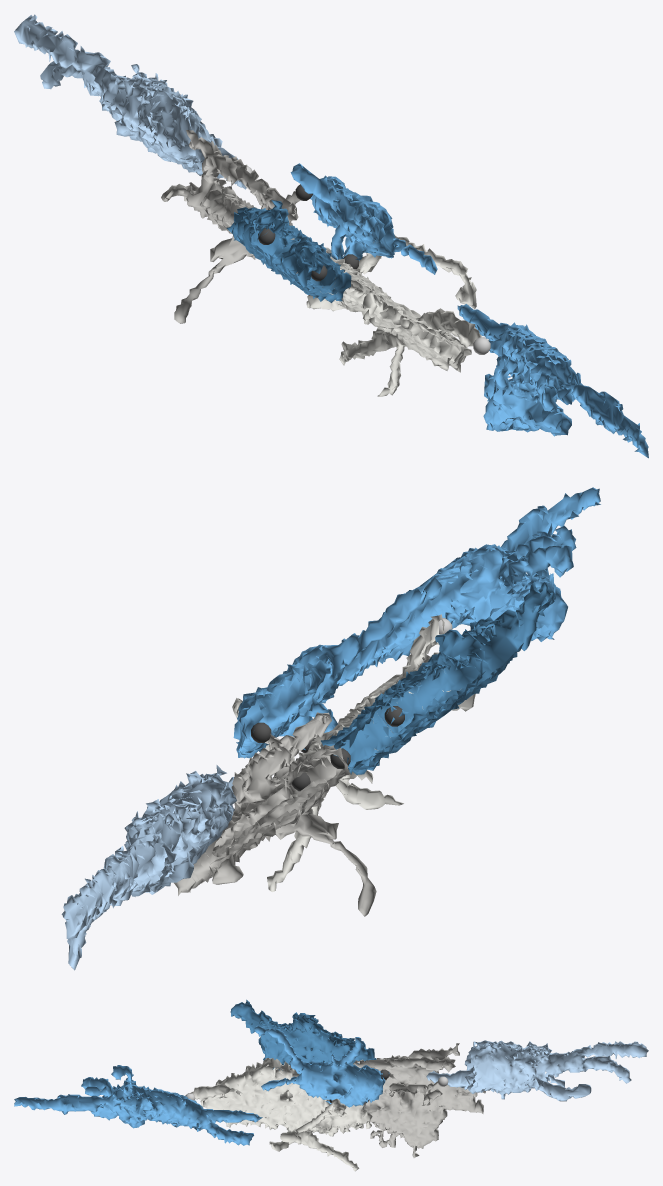
File: sample_1_1_group_1.glb
The picture shows the model from 3 angles, top to bottom: view 1: azimuth 30°, elevation 25°; view 2: azimuth 150°, elevation 25°; view 3: azimuth 270°, elevation 25°; orthographic projection. The views are drawn at different scales.
Visible parts, largest first — view 1: osteocyte_56_elongated, osteocyte_78_elongated, osteocyte_48_untyped, osteocyte_52_untyped, osteocyte_74_elongated, osteocyte_77_elongated; view 2: osteocyte_56_elongated, osteocyte_74_elongated, osteocyte_52_untyped, osteocyte_78_elongated, osteocyte_77_elongated, osteocyte_48_untyped; view 3: osteocyte_48_untyped, osteocyte_78_elongated, osteocyte_52_untyped, osteocyte_56_elongated, osteocyte_77_elongated, osteocyte_74_elongated.
Boxes of the visible parts, x1=… form: osteocyte_56_elongated: x1=457, y1=304, x2=648, y2=458; osteocyte_78_elongated: x1=14, y1=14, x2=246, y2=189; osteocyte_48_untyped: x1=290, y1=235, x2=482, y2=396; osteocyte_52_untyped: x1=161, y1=130, x2=302, y2=323; osteocyte_74_elongated: x1=226, y1=200, x2=351, y2=302; osteocyte_77_elongated: x1=290, y1=163, x2=437, y2=274; osteocyte_56_elongated: x1=322, y1=487, x2=600, y2=703; osteocyte_74_elongated: x1=321, y1=581, x2=555, y2=774; osteocyte_52_untyped: x1=174, y1=712, x2=376, y2=916; osteocyte_78_elongated: x1=61, y1=765, x2=236, y2=970; osteocyte_77_elongated: x1=233, y1=576, x2=441, y2=758; osteocyte_48_untyped: x1=232, y1=614, x2=475, y2=891; osteocyte_48_untyped: x1=190, y1=1058, x2=371, y2=1171; osteocyte_78_elongated: x1=426, y1=1040, x2=648, y2=1101; osteocyte_52_untyped: x1=353, y1=1043, x2=485, y2=1157; osteocyte_56_elongated: x1=14, y1=1065, x2=262, y2=1145; osteocyte_77_elongated: x1=254, y1=1025, x2=389, y2=1107; osteocyte_74_elongated: x1=230, y1=999, x2=376, y2=1070.
Size of the model in its own units: 33.22 by 33.31 by 143.
